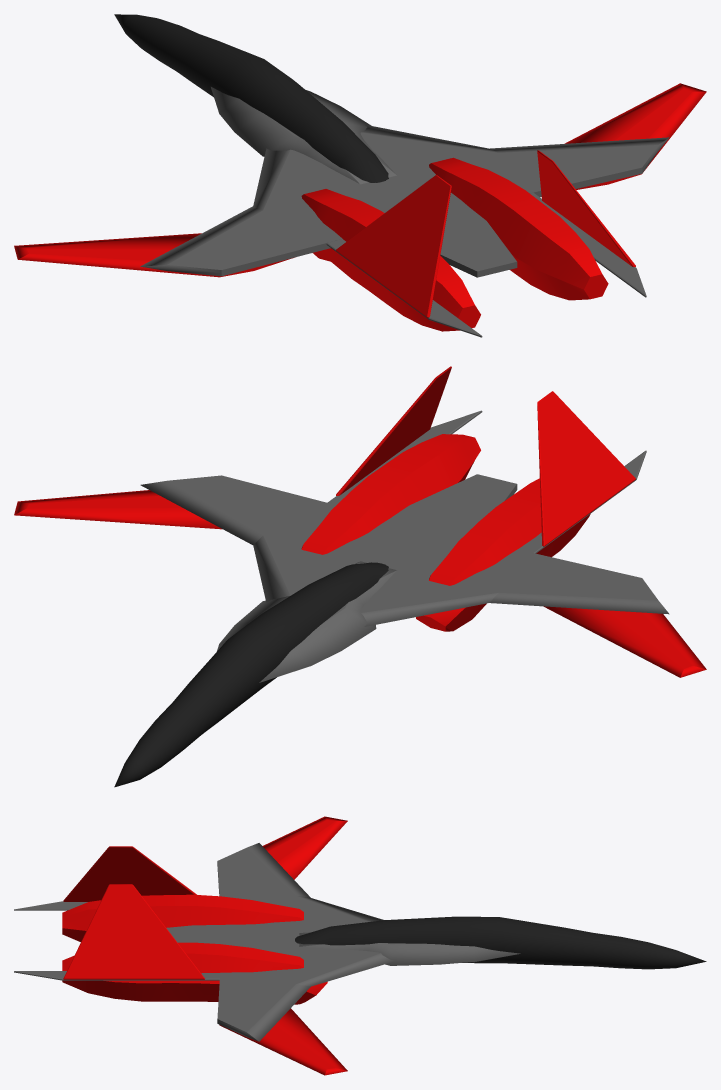
The model's file is sentouki.fbx.
3 views of the same model, one above another, from view 1: azimuth 30°, elevation 25°; view 2: azimuth 150°, elevation 25°; view 3: azimuth 270°, elevation 25° (orthographic). The views are drawn at different scales.
Parts seen in each view (by area): view 1: BodyWing, Head, EngineR, MoveBackWingL, EngineL, MoveWingL, Body, MoveWingR, MoveBackWingR, BackWingR, BackWingL; view 2: BodyWing, Head, EngineR, MoveBackWingL, EngineL, MoveWingL, MoveWingR, Body, MoveBackWingR, BackWingR, BackWingL; view 3: BodyWing, Head, MoveBackWingR, EngineR, EngineL, MoveBackWingL, Body, MoveWingR, MoveWingL, BackWingR, BackWingL.
Part boxes in pixels (<box>): BodyWing: <box>140,124,669,277</box>; Head: <box>114,14,388,182</box>; EngineR: <box>429,157,608,300</box>; MoveBackWingL: <box>336,175,451,317</box>; EngineL: <box>301,189,480,331</box>; MoveWingL: <box>14,233,294,277</box>; Body: <box>211,87,396,184</box>; MoveWingR: <box>564,83,706,189</box>; MoveBackWingR: <box>537,150,635,266</box>; BackWingR: <box>530,192,646,297</box>; BackWingL: <box>326,239,482,337</box>; BodyWing: <box>140,474,669,626</box>; Head: <box>114,562,388,787</box>; EngineR: <box>301,434,480,554</box>; MoveBackWingL: <box>537,391,635,546</box>; EngineL: <box>416,478,590,631</box>; MoveWingL: <box>543,606,706,677</box>; MoveWingR: <box>14,490,222,529</box>; Body: <box>216,561,396,682</box>; MoveBackWingR: <box>336,366,451,495</box>; BackWingR: <box>327,410,482,504</box>; BackWingL: <box>518,450,646,553</box>; BodyWing: <box>166,843,396,1041</box>; Head: <box>295,916,706,969</box>; MoveBackWingR: <box>63,884,204,979</box>; EngineR: <box>62,942,327,1004</box>; EngineL: <box>62,894,303,941</box>; MoveBackWingL: <box>63,846,196,901</box>; Body: <box>299,932,520,965</box>; MoveWingR: <box>219,1008,347,1075</box>; MoveWingL: <box>262,816,347,879</box>; BackWingR: <box>14,971,220,980</box>; BackWingL: <box>14,901,87,910</box>.
Size of the model in its own units: 11.34 by 2.27 by 12.82.
